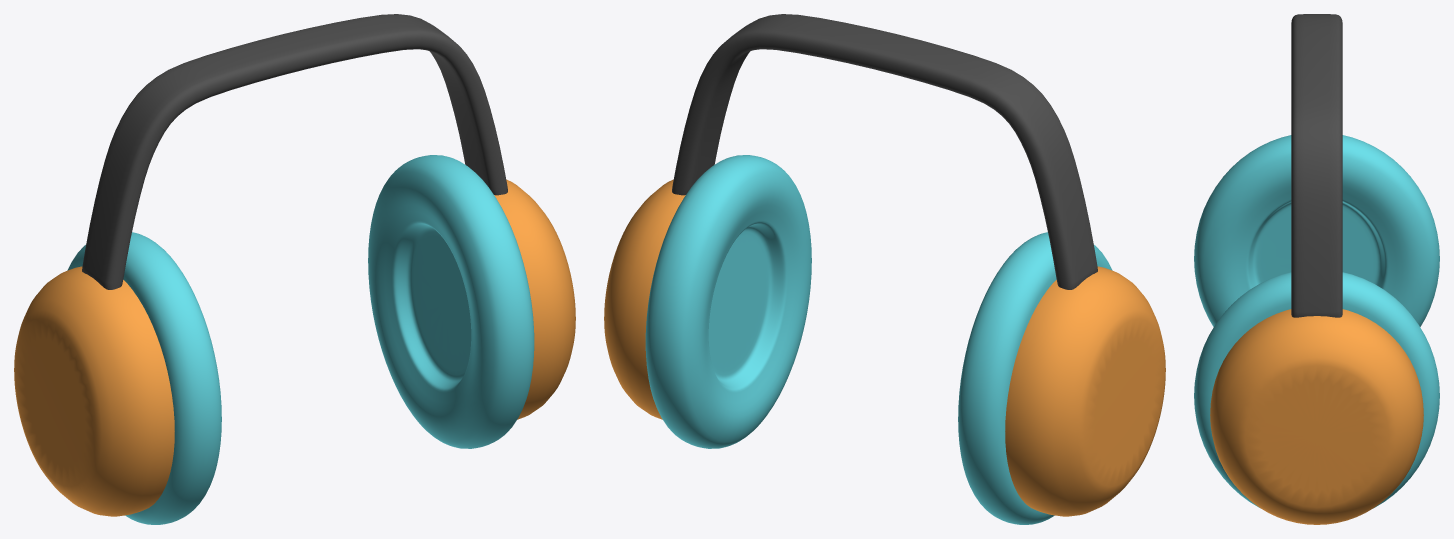
3 views of the same model, side by side, from view 1: azimuth 30°, elevation 25°; view 2: azimuth 150°, elevation 25°; view 3: azimuth 270°, elevation 25° (orthographic). The views are drawn at different scales.
Visible parts, largest first — view 1: Headphone Part; view 2: Headphone Part; view 3: Headphone Part.
Boxes of the visible parts, bbox=[...] form: Headphone Part: bbox=[14, 14, 575, 524]; Headphone Part: bbox=[604, 14, 1165, 524]; Headphone Part: bbox=[1194, 14, 1439, 524].
Size of the model in its own units: 1.38 by 1.2 by 0.6802.
Materials: 2 (2 with a texture image).
